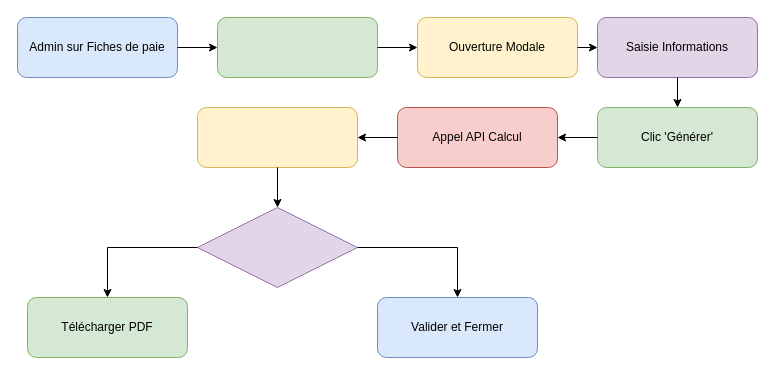
Image size: 775x375. Some labels were removed from this diagram. The centre of each missing label's shape, as x and y in pixels:
"Action Admin" goes at (277,247).
"Affichage Preview PDF" goes at (277,137).
"Clic 'Générer une fiche'" goes at (297,47).
